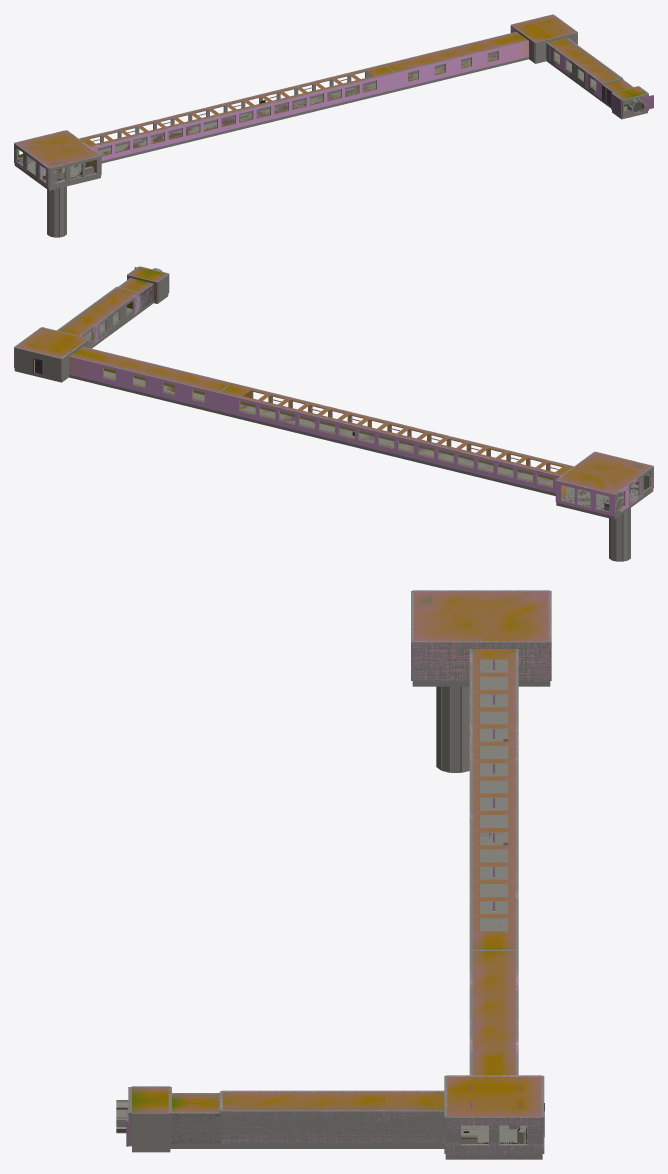
File: platform_int.glb
3 renders of one model, top to bottom at view 1: azimuth 30°, elevation 25°; view 2: azimuth 150°, elevation 25°; view 3: azimuth 270°, elevation 25°, orthographic. The views are drawn at different scales.
Parts seen in each view (by area): view 1: plat_shell__m, plat_col__m, plat_arm_detail__m; view 2: plat_shell__m, plat_col__m, plat_arm_detail__m; view 3: plat_shell__m, plat_col__m.
Part boxes in pixels (x1,y1,x2,y2): plat_shell__m: (14,15,646,187); plat_col__m: (14,14,648,237); plat_arm_detail__m: (92,58,497,156); plat_shell__m: (14,267,653,516); plat_col__m: (14,266,653,561); plat_arm_detail__m: (104,376,558,487); plat_shell__m: (129,590,551,1154); plat_col__m: (116,590,551,1159).
Bounding box in the file's own units: 97.44 × 13.45 × 34.17.
